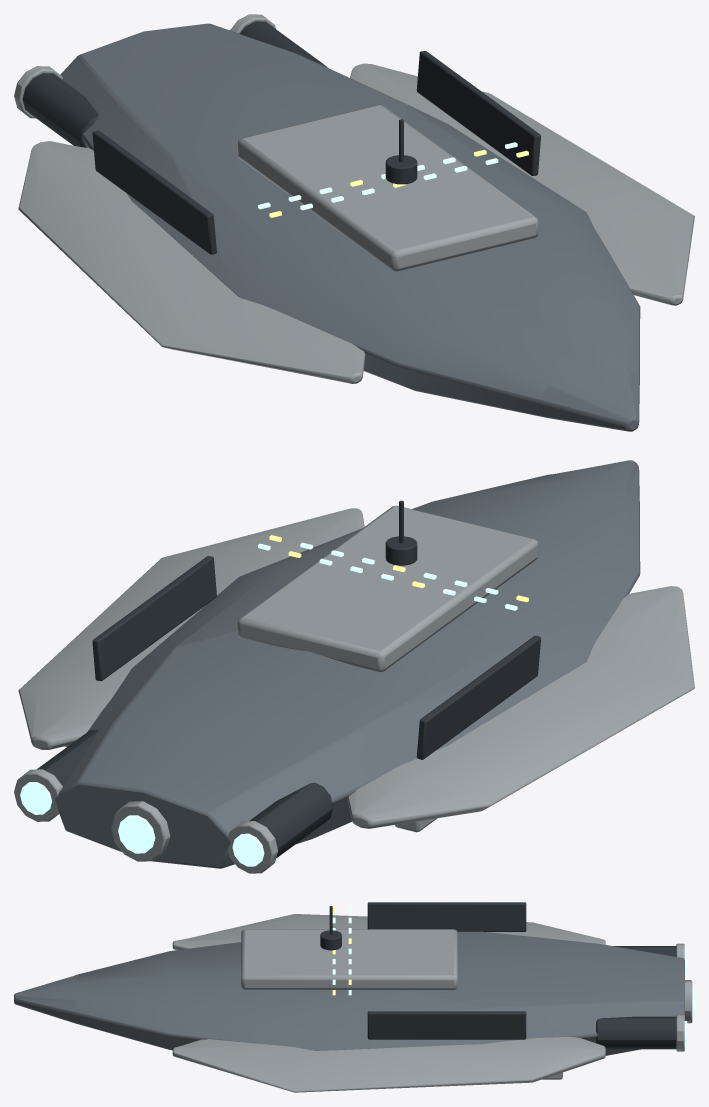
The model's file is QW_CommandShip_LOD1.fbx.
The picture shows the model from 3 angles, top to bottom: view 1: azimuth 30°, elevation 25°; view 2: azimuth 150°, elevation 25°; view 3: azimuth 270°, elevation 25°; orthographic projection. The views are drawn at different scales.
Visible parts, largest first — view 1: QW_CommandShip_LOD1; view 2: QW_CommandShip_LOD1; view 3: QW_CommandShip_LOD1.
Boxes of the visible parts, x1=… form: QW_CommandShip_LOD1: x1=14, y1=14, x2=694, y2=431; QW_CommandShip_LOD1: x1=14, y1=460, x2=694, y2=873; QW_CommandShip_LOD1: x1=14, y1=902, x2=694, y2=1092.
Bounding box in the file's own units: 13.82 × 4.96 × 22.33.
